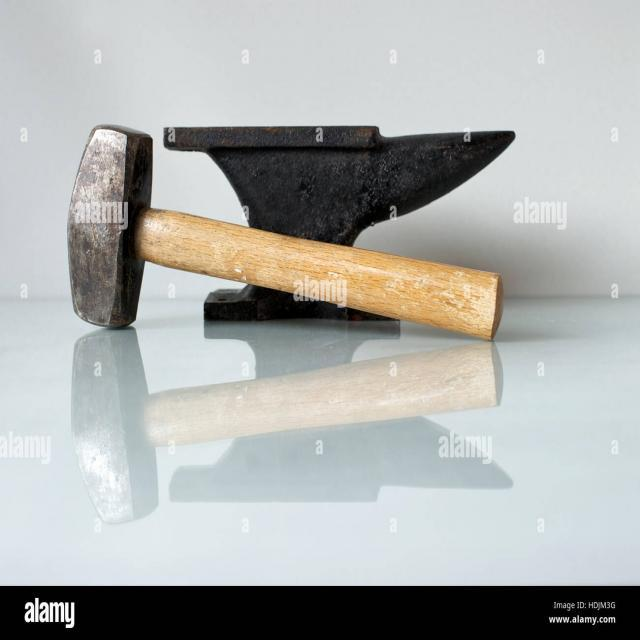hammer: (61, 121, 534, 352)
